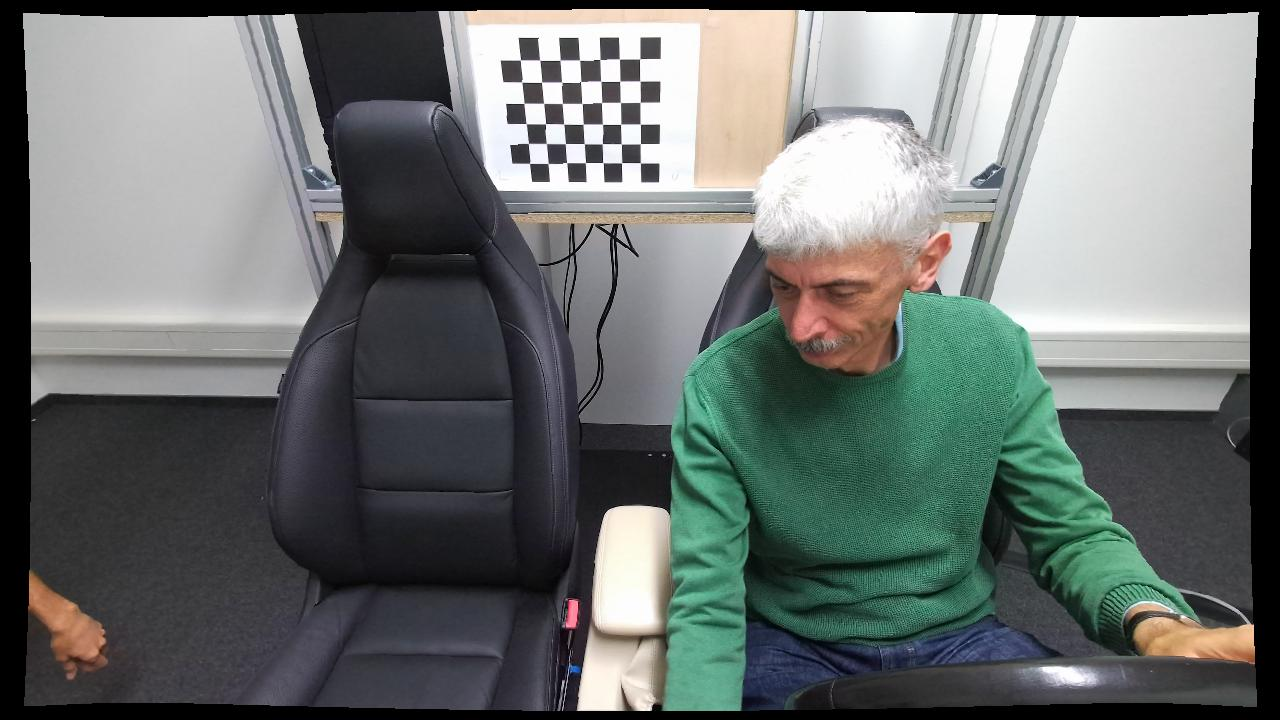Distracted: (662, 116, 1251, 709)
